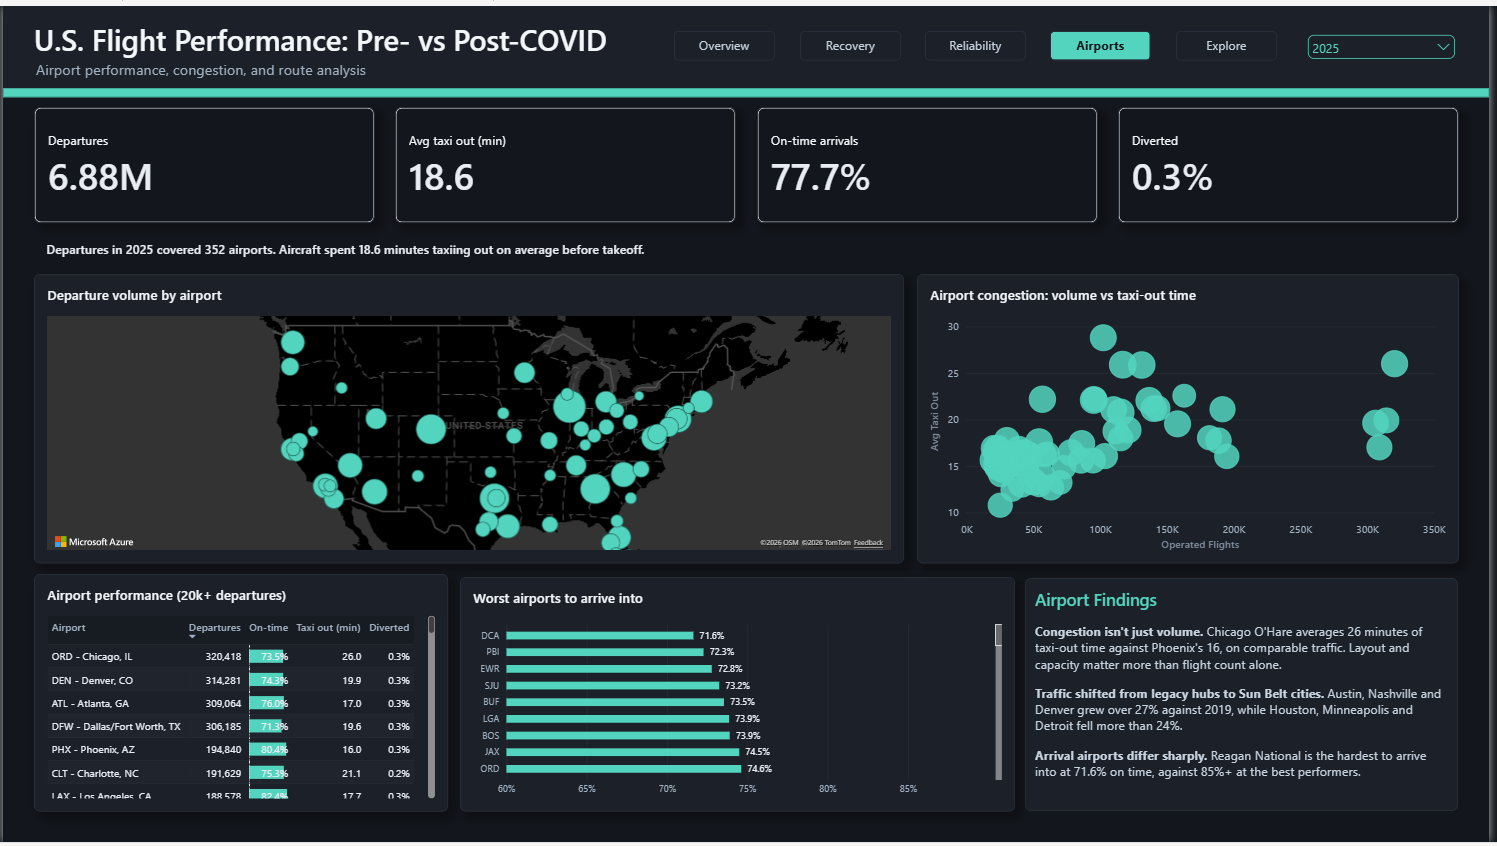

This screenshot's page, from the dashboard's own definition file:
{"tool":"powerbi","page":{"name":"Airports","canvas":[1920,1080],"ordinal":3},"visuals":[{"type":"shape","box":[0,0,1920,110],"z":0},{"type":"shape","box":[0,106,1920,12],"z":1000},{"type":"textbox","box":[39.9,18.6,1013.5,66.5],"z":2000},{"type":"textbox","box":[42,70,900,30],"z":3000},{"type":"slicer","fields":{"Values":["dim_date.year"]},"box":[1681.2,31.9,199.5,45.2],"z":4000},{"type":"cardVisual","fields":{"Data":["_Measures.Narrative Airports"]},"box":[40,292,1840,44],"z":5000},{"type":"cardVisual","fields":{"Data":["_Measures.Operated Flights"]},"box":[40,130,440,150],"z":6000},{"type":"cardVisual","fields":{"Data":["_Measures.Avg Taxi Out"]},"box":[506.8,130,440,150],"z":7000},{"type":"cardVisual","fields":{"Data":["_Measures.On-Time %"]},"box":[973.6,130,440,150],"z":8000},{"type":"cardVisual","fields":{"Data":["_Measures.Diversion %"]},"box":[1440.4,130.3,440,150],"z":9000},{"type":"scatterChart","title":"Airport congestion: volume vs taxi-out time","fields":{"Category":["dim_airport.airport_code"],"Size":["_Measures.Avg Delay When Late"],"X":["_Measures.Operated Flights"],"Y":["_Measures.Avg Taxi Out"]},"box":[1181.1,345.8,700,374],"z":10000},{"type":"azureMap","title":"Departure volume by airport","fields":{"Category":["dim_airport.city"],"Size":["_Measures.Operated Flights"]},"box":[39.9,345.8,1123.9,373.7],"z":11000},{"type":"tableEx","title":"Airport performance (20k+ departures)","fields":{"Values":["dim_airport.airport_label","_Measures.Operated Flights","_Measures.On-Time %","_Measures.Avg Taxi Out","_Measures.Diversion %"]},"box":[39.9,734.2,534.7,307.2],"z":12000},{"type":"textbox","box":[1320.7,739.5,558.6,300.6],"z":13000},{"type":"clusteredBarChart","title":"Worst airports to arrive into","fields":{"Category":["dim_airport.airport_code"],"Y":["_Measures.On-Time % by Destination"]},"box":[590.5,738.2,716.9,303.3],"z":14000},{"type":"actionButton","box":[867.2,31.9,130,38],"z":15000},{"type":"actionButton","box":[1029.1,31.9,130,38],"z":16000},{"type":"actionButton","box":[1353,31.9,130,38],"z":17000},{"type":"actionButton","box":[1191.1,31.9,130,38],"z":18000},{"type":"actionButton","box":[1514.9,31.9,130,38],"z":19000}]}

Visuals, with their boxes in screenshot pixels (x1, y1, x2, y2), scaled from the page's 1920x1080 canvas onto the 1497x846 screenshot:
shape: bbox(0, 0, 1496, 86)
shape: bbox(0, 83, 1496, 92)
textbox: bbox(31, 15, 821, 67)
textbox: bbox(33, 55, 734, 78)
slicer - dim_date.year: bbox(1311, 25, 1466, 60)
cardVisual - _Measures.Narrative Airports: bbox(31, 229, 1466, 263)
cardVisual - _Measures.Operated Flights: bbox(31, 102, 374, 219)
cardVisual - _Measures.Avg Taxi Out: bbox(395, 102, 738, 219)
cardVisual - _Measures.On-Time %: bbox(759, 102, 1102, 219)
cardVisual - _Measures.Diversion %: bbox(1123, 102, 1466, 220)
"Airport congestion: volume vs taxi-out time" scatterChart: bbox(921, 271, 1467, 564)
"Departure volume by airport" azureMap: bbox(31, 271, 907, 564)
"Airport performance (20k+ departures)" tableEx: bbox(31, 575, 448, 816)
textbox: bbox(1030, 579, 1465, 815)
"Worst airports to arrive into" clusteredBarChart: bbox(460, 578, 1019, 816)
actionButton: bbox(676, 25, 778, 55)
actionButton: bbox(802, 25, 904, 55)
actionButton: bbox(1055, 25, 1156, 55)
actionButton: bbox(929, 25, 1030, 55)
actionButton: bbox(1181, 25, 1283, 55)
